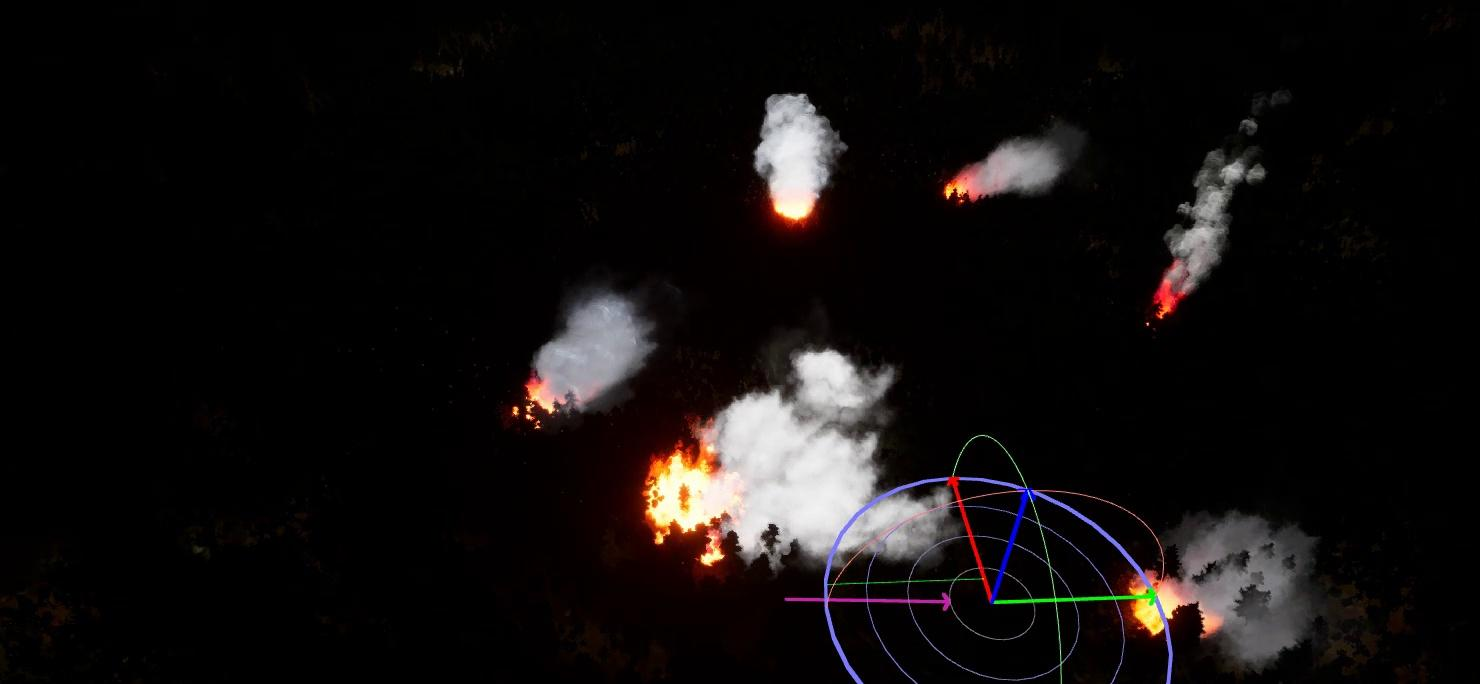fire: (642, 440, 745, 570), (1127, 570, 1222, 647), (509, 375, 571, 424), (771, 178, 827, 232), (1150, 268, 1196, 322), (935, 168, 981, 206)
smoke: (717, 355, 953, 575), (1178, 493, 1319, 673), (1163, 114, 1268, 270), (540, 286, 663, 404), (755, 96, 842, 188), (973, 129, 1073, 209)
